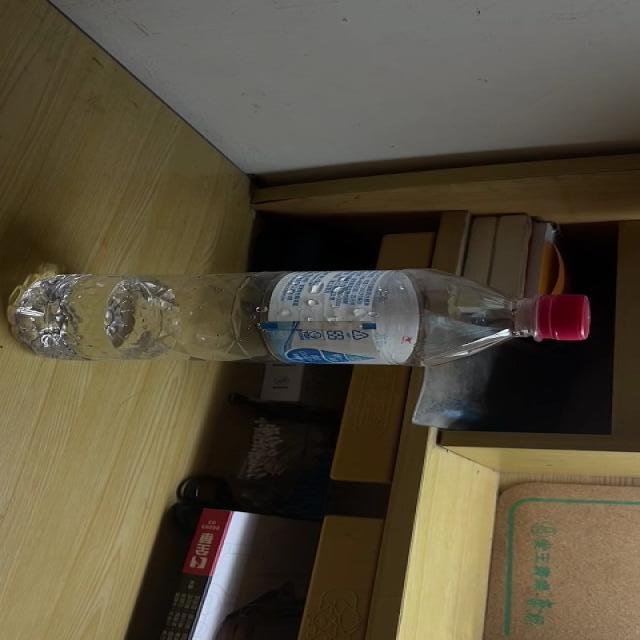Water: (0, 269, 594, 364)
